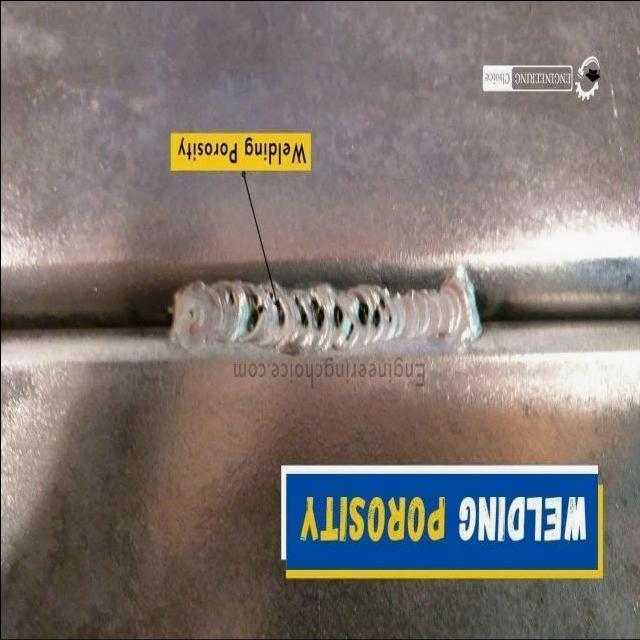defect: (341, 293, 387, 342), (242, 288, 264, 336), (265, 288, 287, 330), (309, 296, 324, 330), (293, 295, 308, 328), (331, 301, 343, 330), (223, 286, 235, 307), (386, 313, 391, 323)
